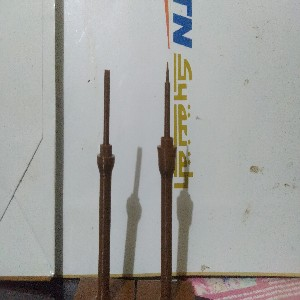obeng: (95, 68, 116, 300)
solder: (157, 59, 178, 299)
